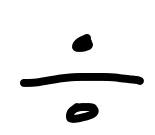div: (20, 34, 144, 123)
